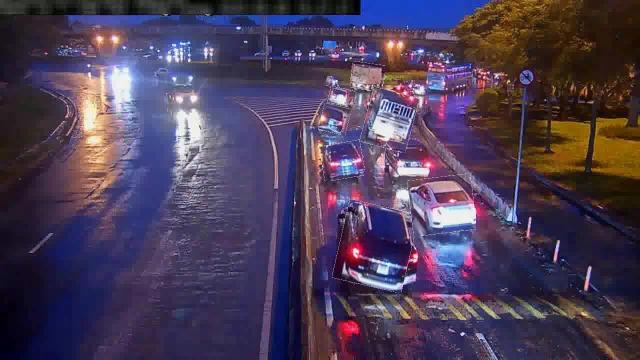Car: (336, 202, 416, 290), (409, 176, 475, 234), (320, 142, 364, 180), (320, 105, 350, 135), (328, 88, 356, 106)
Truck: (364, 89, 416, 150), (351, 62, 385, 90)
